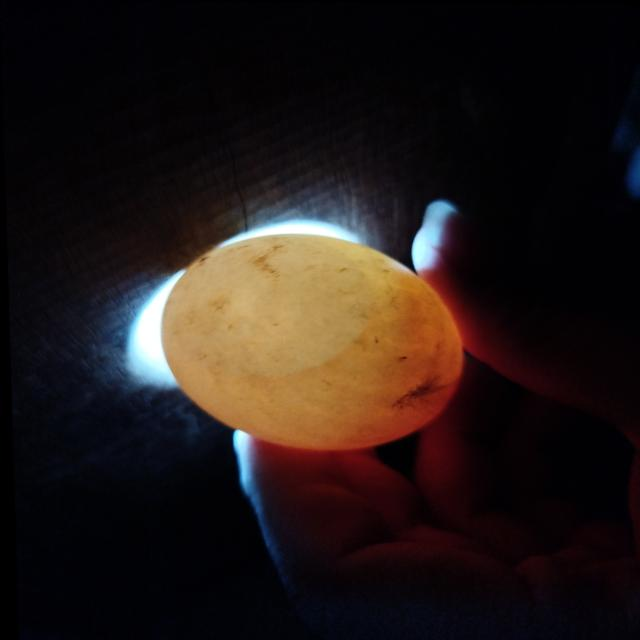Camara de Ar: (197, 238, 367, 374)
